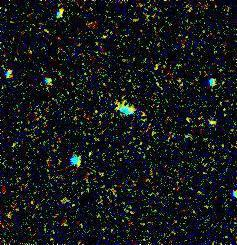star: (120, 97, 150, 127)
